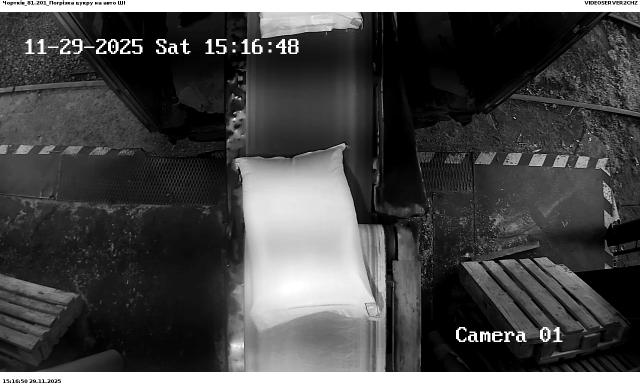bag: (237, 143, 381, 327), (260, 12, 367, 44)
